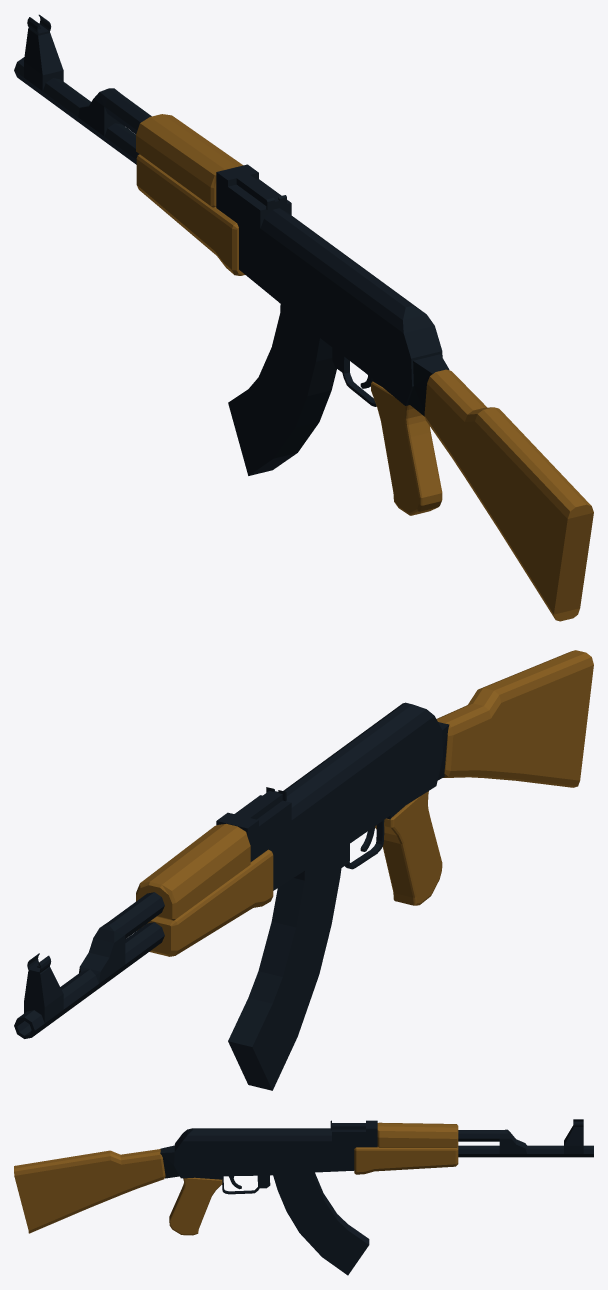
The model's file is AK_WIP.glb.
The picture shows the model from 3 angles, top to bottom: view 1: azimuth 30°, elevation 25°; view 2: azimuth 150°, elevation 25°; view 3: azimuth 270°, elevation 25°; orthographic projection. The views are drawn at different scales.
Parts seen in each view (by area): view 1: Reciever, Buttstock, Magazine, Handguard, Barrel, Grip; view 2: Reciever, Buttstock, Magazine, Handguard, Barrel, Grip; view 3: Reciever, Buttstock, Magazine, Handguard, Barrel, Grip.
Boxes of the visible parts, x1,y1,x2,y2 form: Reciever: [216, 164, 449, 416]; Buttstock: [424, 369, 593, 621]; Magazine: [228, 304, 336, 475]; Handguard: [136, 114, 244, 275]; Barrel: [14, 14, 151, 164]; Grip: [371, 381, 442, 515]; Reciever: [216, 702, 449, 890]; Buttstock: [436, 650, 593, 787]; Magazine: [228, 847, 344, 1090]; Handguard: [136, 823, 273, 956]; Barrel: [14, 892, 164, 1038]; Grip: [375, 791, 442, 905]; Reciever: [160, 1120, 377, 1194]; Buttstock: [14, 1149, 165, 1233]; Magazine: [273, 1172, 369, 1275]; Handguard: [354, 1122, 458, 1174]; Barrel: [458, 1119, 593, 1157]; Grip: [169, 1177, 222, 1235].
Size of the model in its own units: 0.196 by 1.33 by 4.58.
1 material, 1 textured.
